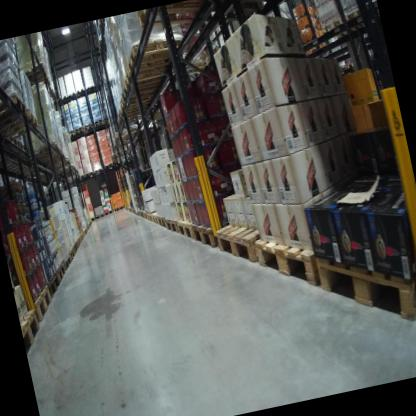pallet: (315, 225, 416, 345), (250, 202, 371, 298), (212, 202, 289, 275), (137, 0, 232, 44), (121, 28, 185, 76), (121, 53, 188, 89), (0, 104, 48, 149), (189, 206, 232, 252), (315, 5, 359, 49), (0, 89, 35, 142), (117, 85, 174, 114), (17, 304, 46, 356), (23, 282, 56, 325), (118, 74, 162, 104), (342, 0, 375, 35), (115, 105, 158, 126), (174, 209, 198, 245), (116, 99, 156, 120), (32, 140, 61, 159), (45, 268, 63, 298), (54, 259, 70, 286), (164, 213, 181, 235), (61, 253, 73, 271), (73, 124, 86, 139), (157, 210, 167, 229), (102, 160, 117, 171), (67, 246, 76, 264), (82, 168, 94, 180), (93, 119, 105, 130), (94, 210, 106, 221), (146, 208, 156, 221), (92, 165, 103, 176), (152, 211, 160, 225), (82, 124, 95, 132), (71, 242, 79, 255), (73, 237, 81, 250), (103, 208, 114, 217), (113, 204, 124, 212), (67, 131, 75, 140), (139, 207, 145, 218), (143, 209, 148, 222)
